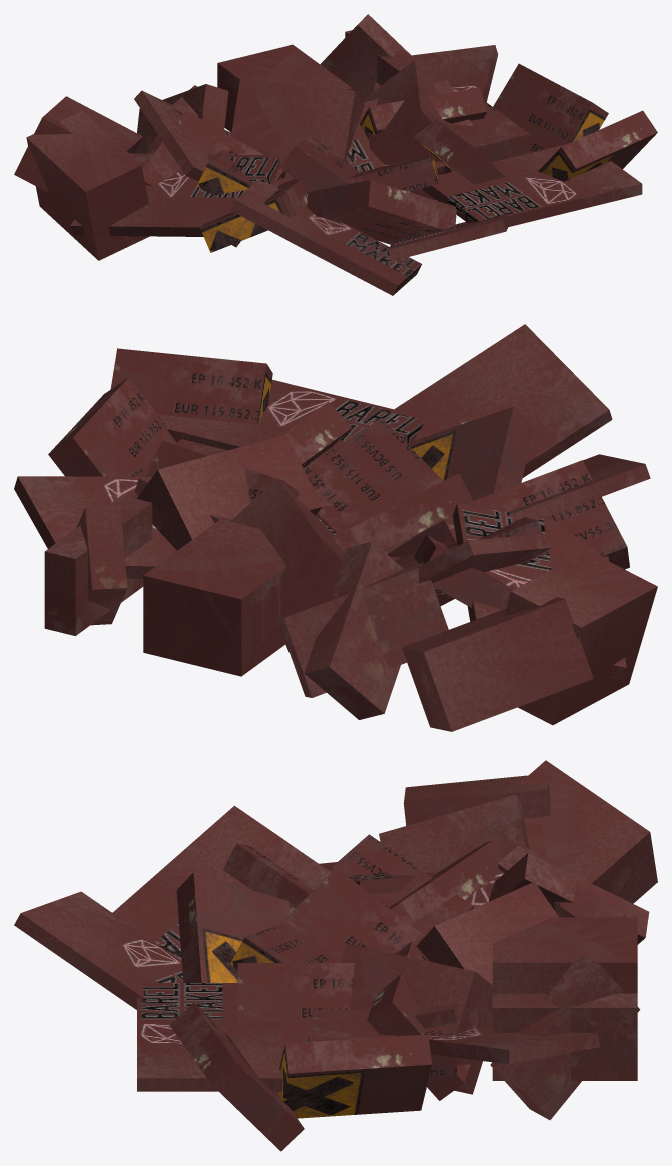
File: CS_debrish.FBX
3 renders of one model, top to bottom at view 1: azimuth 30°, elevation 25°; view 2: azimuth 150°, elevation 25°; view 3: azimuth 270°, elevation 25°, orthographic. The views are drawn at different scales.
Visible parts, largest first — view 1: SM_debris; view 2: SM_debris; view 3: SM_debris.
Boxes of the visible parts, x1,y1,x2,y2 form: SM_debris: [14, 14, 657, 295]; SM_debris: [14, 324, 657, 731]; SM_debris: [14, 760, 657, 1151].
Size of the model in its own units: 151 by 137 by 39.74.
